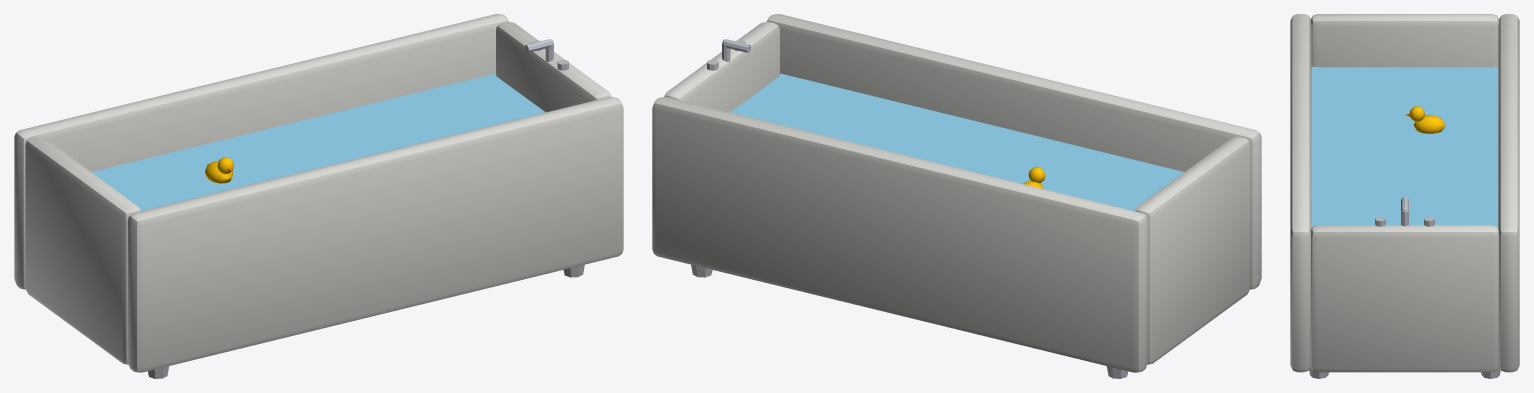
File: bathtub.glb
3 views of the same model, side by side, from view 1: azimuth 30°, elevation 25°; view 2: azimuth 150°, elevation 25°; view 3: azimuth 270°, elevation 25° (orthographic). The views are drawn at different scales.
Visible parts, largest first — view 1: body; view 2: body; view 3: body.
Boxes of the visible parts, box(x1,y1,x2,y2) form: body: box(14, 14, 623, 378); body: box(652, 14, 1261, 378); body: box(1290, 14, 1519, 378).
Bounding box in the file's own units: 170 × 64.3 × 75.
